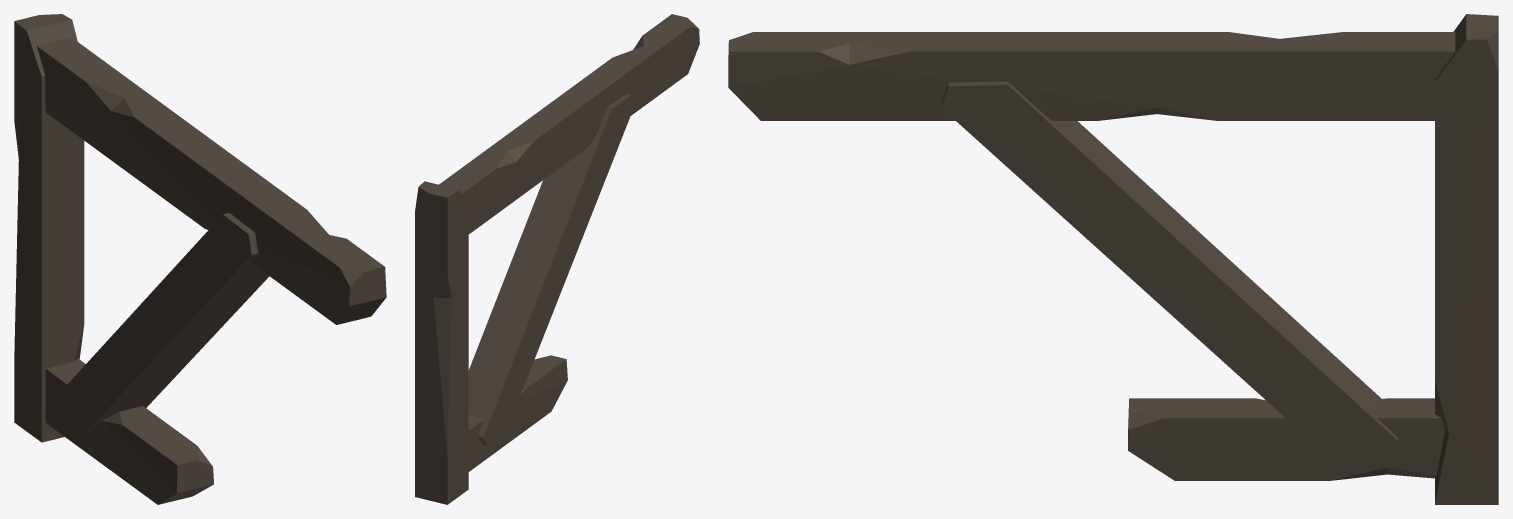
The model's file is kingdom_SM_Bld_Walkway_Wood_Support_01.gltf.
3 renders of one model, left to right at view 1: azimuth 30°, elevation 25°; view 2: azimuth 150°, elevation 25°; view 3: azimuth 270°, elevation 25°, orthographic. The views are drawn at different scales.
Visible parts, largest first — view 1: SM_Bld_Walkway_Wood_Support_01; view 2: SM_Bld_Walkway_Wood_Support_01; view 3: SM_Bld_Walkway_Wood_Support_01.
Boxes of the visible parts, box(x1,y1,x2,y2) form: SM_Bld_Walkway_Wood_Support_01: box(14, 14, 386, 504); SM_Bld_Walkway_Wood_Support_01: box(415, 14, 699, 504); SM_Bld_Walkway_Wood_Support_01: box(728, 14, 1498, 504).
Bounding box in the file's own units: 0.1628 × 1.28 × 1.92.
1 material, 1 textured.
